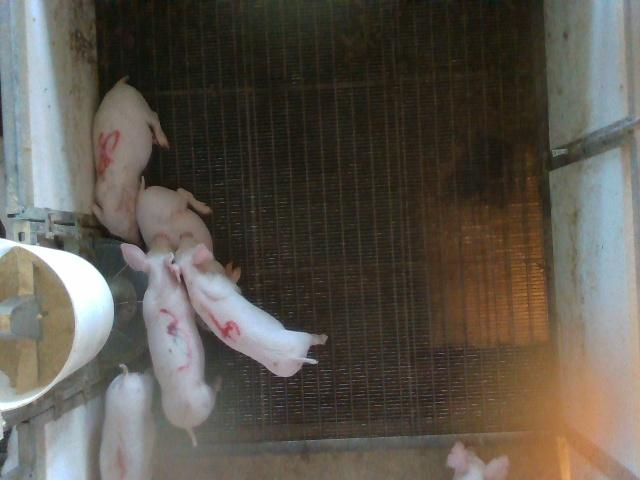pig-1: (100, 364, 155, 479)
pig-3: (122, 235, 215, 444)
pig-4: (175, 235, 328, 377)
pig-5: (92, 76, 169, 244)
